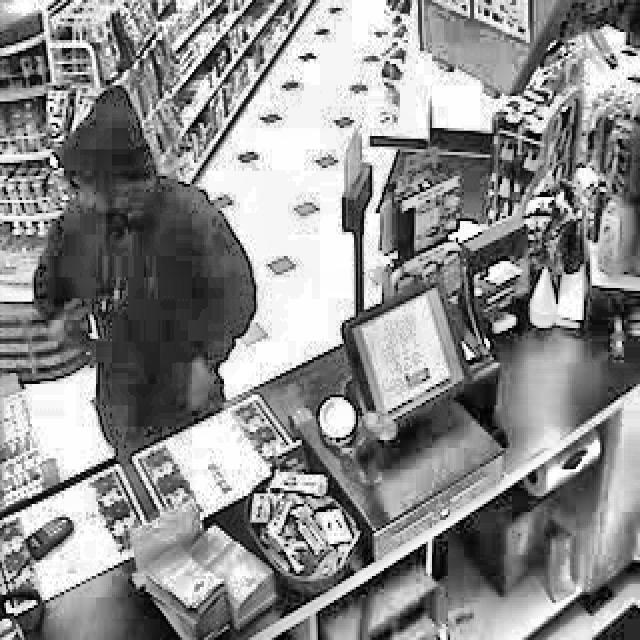robbery: (29, 88, 260, 454)
